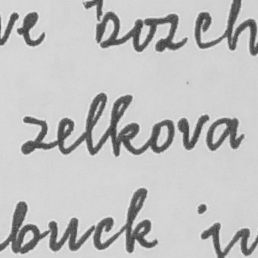a: (203, 115, 245, 153)
e: (55, 116, 77, 156)
k: (109, 91, 142, 159)
l: (84, 91, 107, 158)
o: (147, 117, 176, 156)
v: (177, 112, 211, 153)
z: (18, 113, 52, 157)
